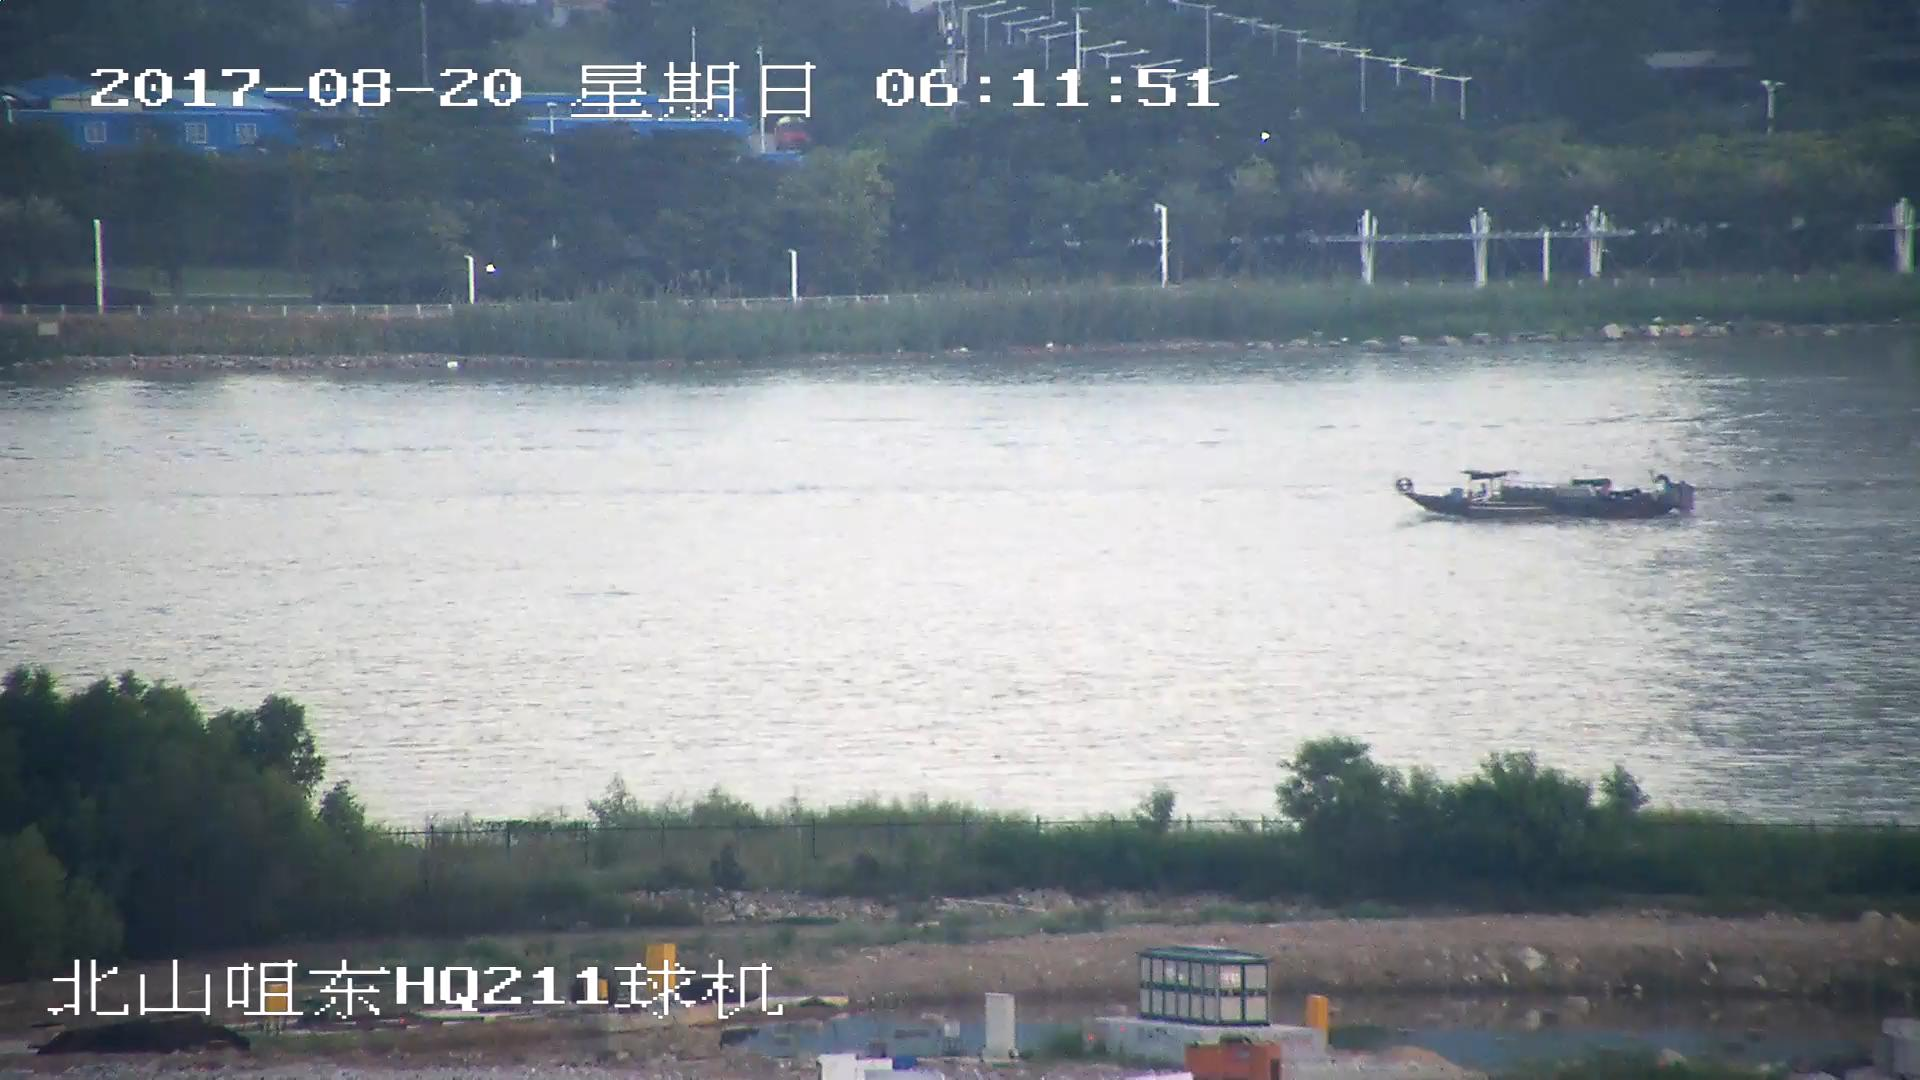fishing boat: (1402, 467, 1698, 527)
